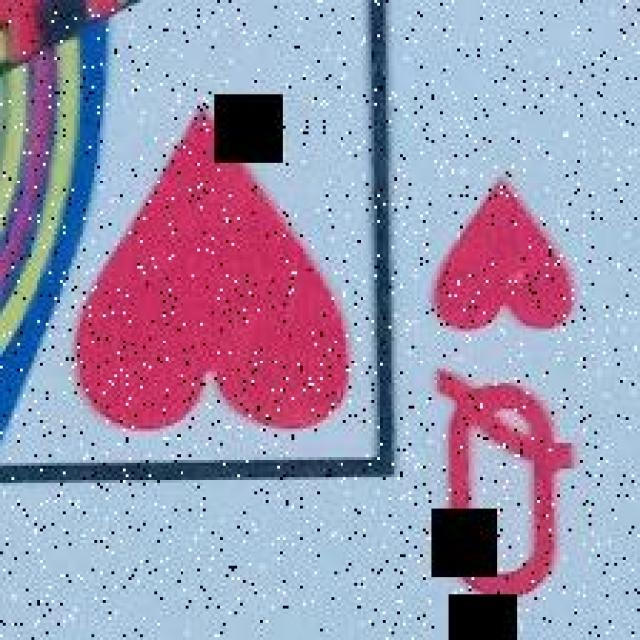Queen of hearts: (0, 0, 640, 638)
